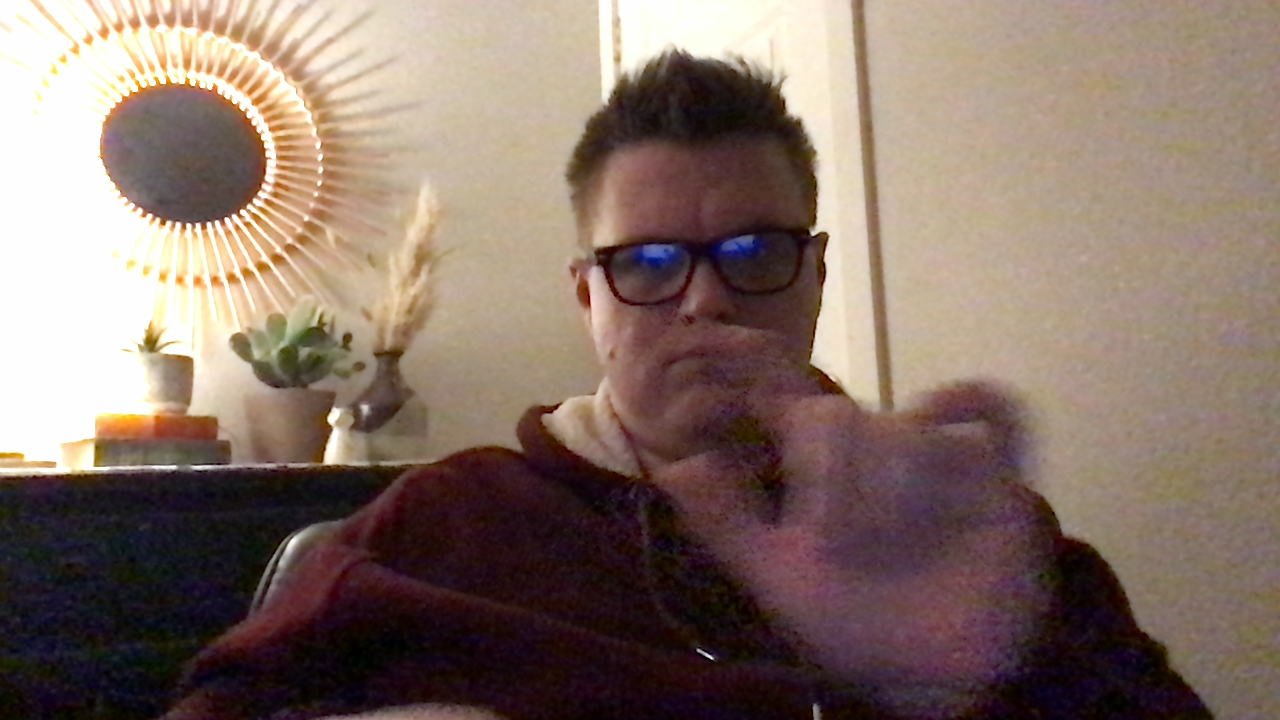iloveyou: (666, 323, 1057, 700)
